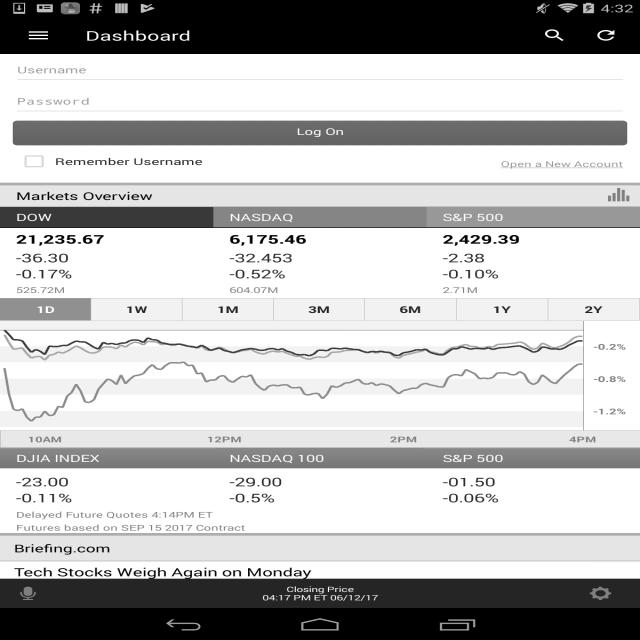Button: (13, 121, 627, 145), (426, 206, 640, 227), (0, 206, 213, 227), (213, 207, 427, 227)
CheckBox: (17, 151, 51, 172)
EditText: (13, 92, 627, 117), (13, 61, 627, 85)
ImageButton: (9, 17, 68, 54)
ImageView: (0, 321, 640, 447), (578, 580, 623, 608), (10, 583, 44, 604), (604, 185, 634, 204)
TextView: (5, 536, 634, 560), (6, 564, 636, 580), (426, 447, 640, 468), (0, 447, 213, 468), (213, 448, 427, 468), (11, 186, 158, 207), (0, 522, 245, 533), (0, 509, 213, 520), (0, 228, 105, 250), (262, 584, 378, 602), (213, 228, 307, 250), (51, 155, 210, 168), (427, 228, 520, 250), (548, 298, 640, 320), (0, 298, 91, 320), (91, 298, 182, 320), (182, 298, 273, 320), (365, 298, 456, 320), (457, 298, 548, 320), (274, 298, 364, 320), (85, 26, 191, 44), (580, 19, 632, 52), (529, 19, 580, 52), (0, 468, 72, 490), (426, 468, 496, 490), (213, 468, 282, 490), (501, 158, 623, 170), (0, 183, 640, 185), (213, 250, 293, 266), (0, 490, 75, 506), (213, 266, 286, 282), (0, 266, 72, 282), (426, 266, 498, 282), (426, 490, 498, 506), (0, 250, 69, 266), (0, 282, 65, 298), (214, 282, 278, 298), (213, 490, 275, 506), (426, 250, 484, 266), (427, 282, 478, 298)
